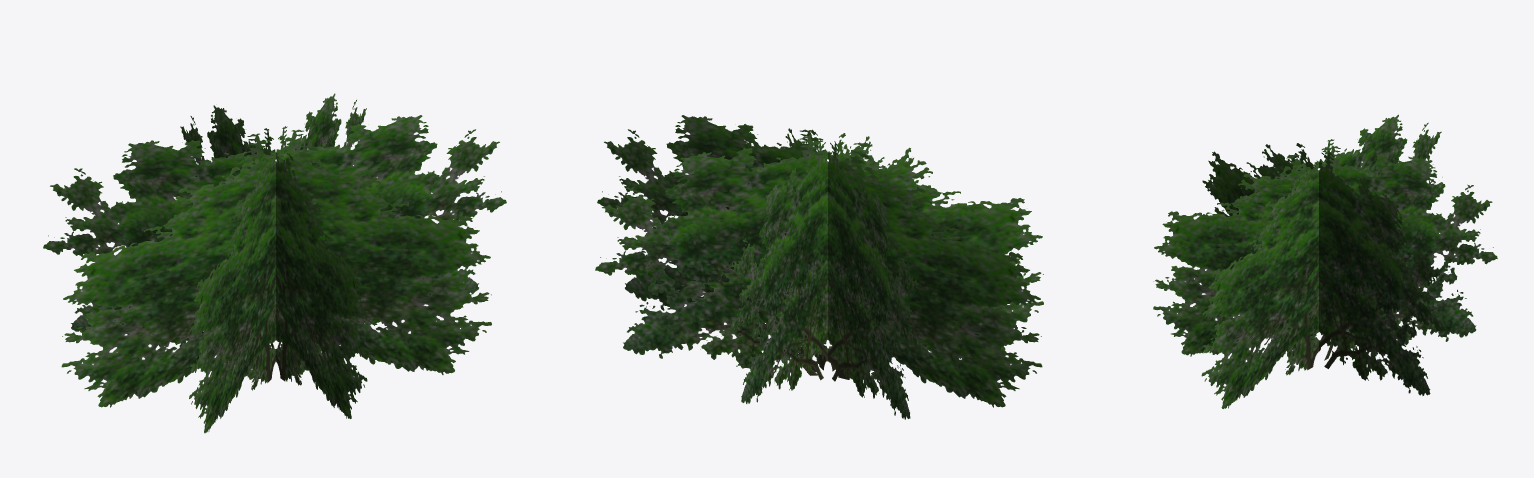
Rendered from Bush.fbx.
The picture shows the model from 3 angles, left to right: view 1: azimuth 30°, elevation 25°; view 2: azimuth 150°, elevation 25°; view 3: azimuth 270°, elevation 25°; orthographic projection. The views are drawn at different scales.
Parts seen in each view (by area): view 1: Bush; view 2: Bush; view 3: Bush.
Boxes of the visible parts, x1,y1,x2,y2 form: Bush: (43,93,506,433); Bush: (595,115,1043,419); Bush: (1153,114,1497,408).
Size of the model in its own units: 3.92 by 2.9 by 1.87.
1 material, 1 textured.
